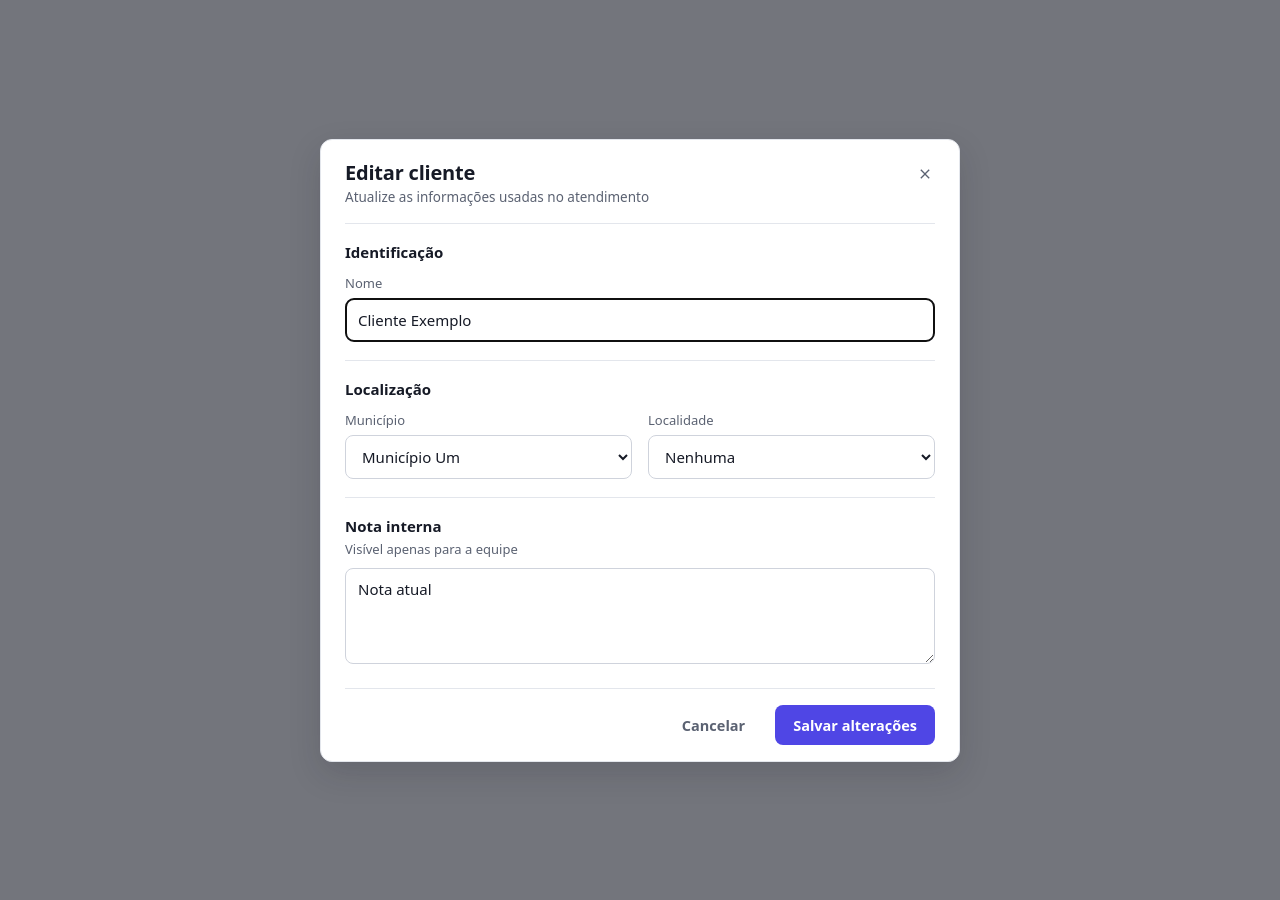
Scenario: EditContactModal — redesenho › erro sem tradução do servidor: frase segura em português, nunca o texto técnico
The image size is (1280, 900).
In the field labelled "Nome": (640, 320) [345,298,935,342], type " (editado)"
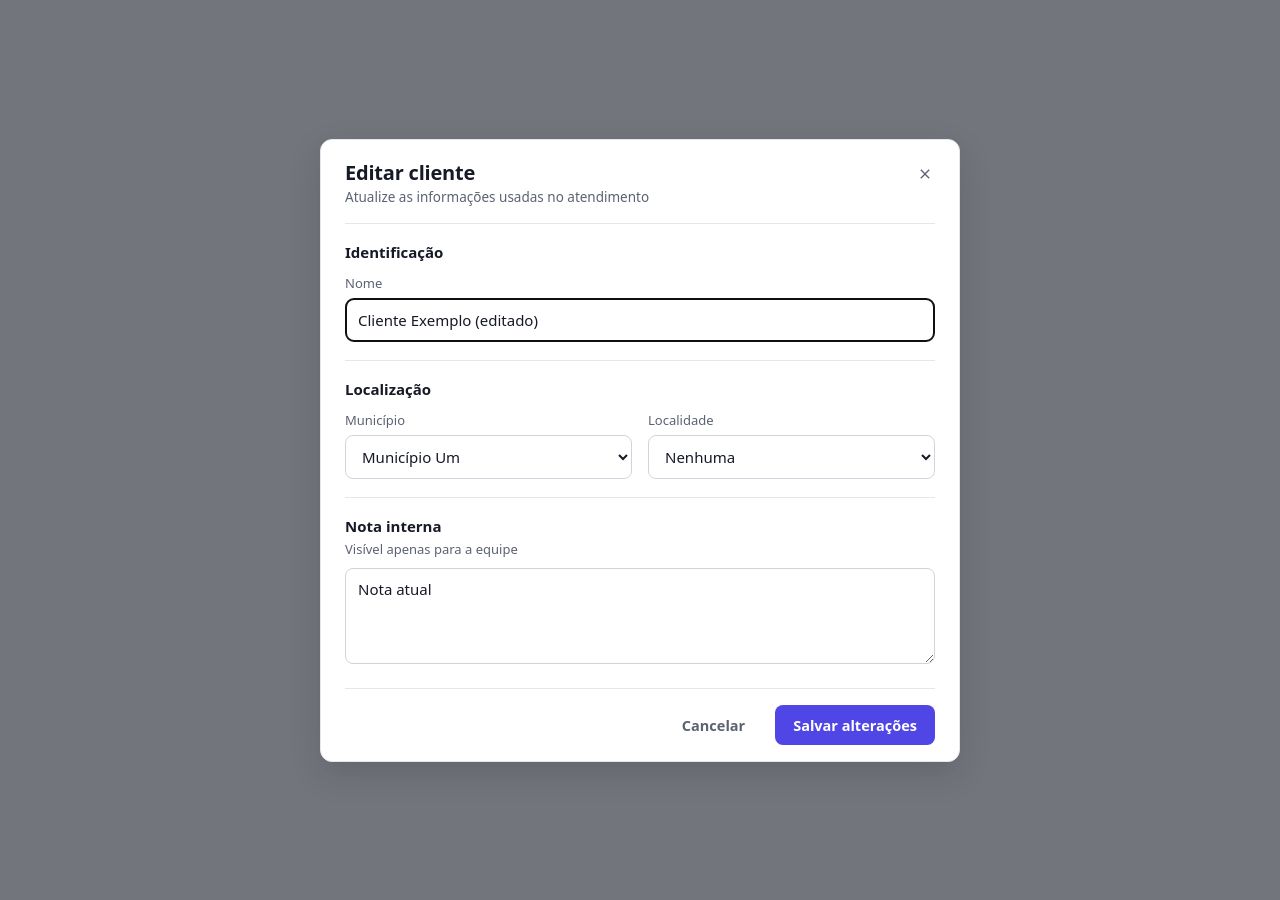
Click the button "Salvar alterações": (855, 724) [775,704,935,744]
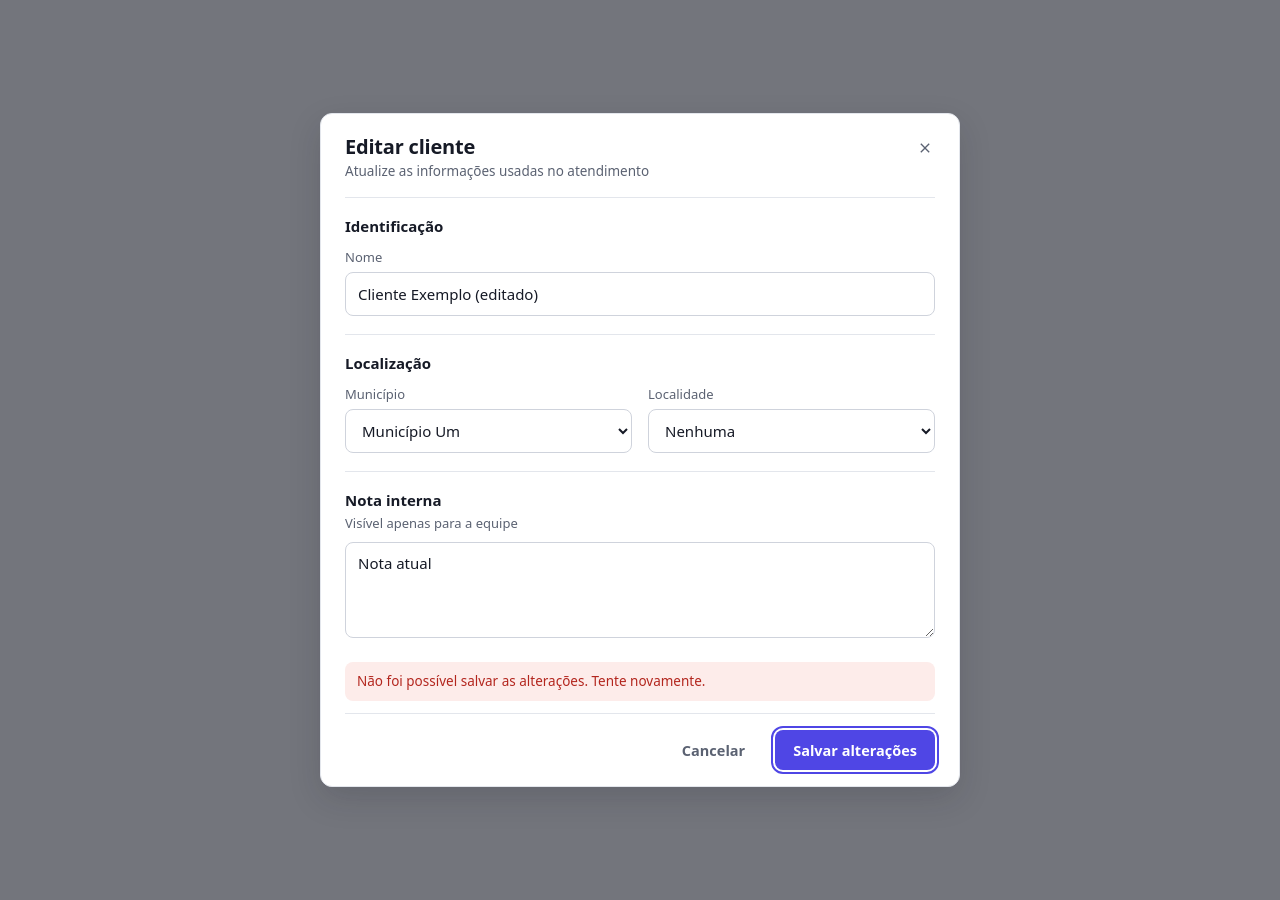
Check: the message reads "Não foi possível salvar as alterações. Tente novamente.", box [357,672,705,690]
